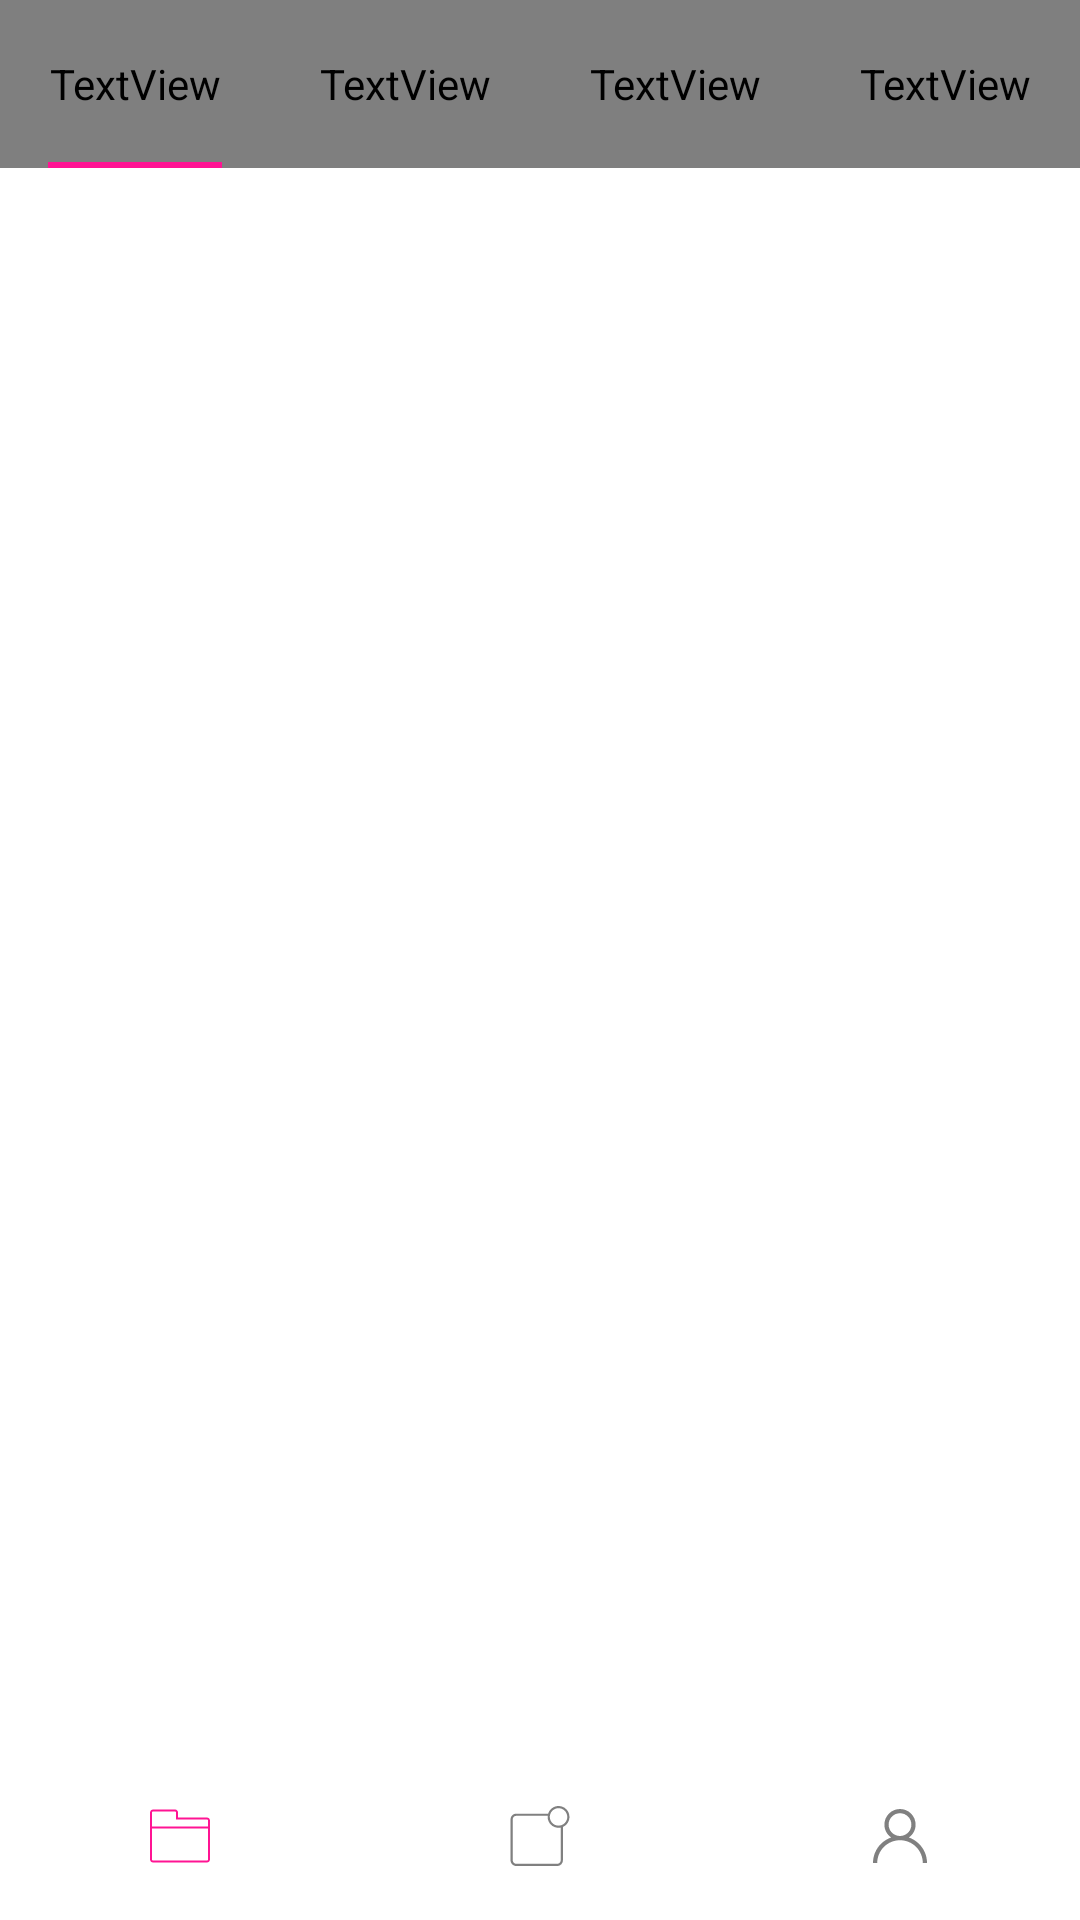

Where to tap for icons on this 1080px x 1920px app screen, as [x,y]:
folder: [180,1836]
notification: [540,1836]
user: [900,1836]
